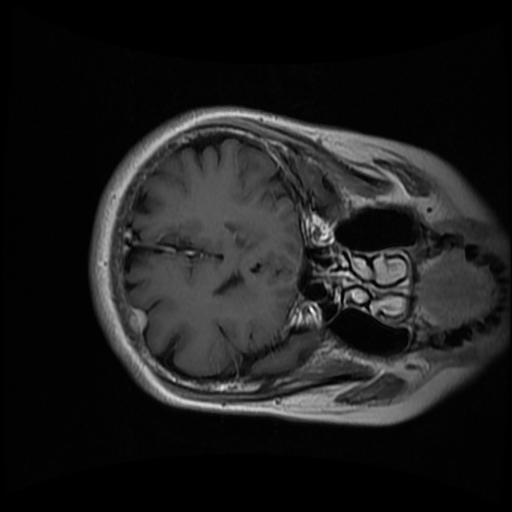meningioma: (128, 308, 148, 334)
